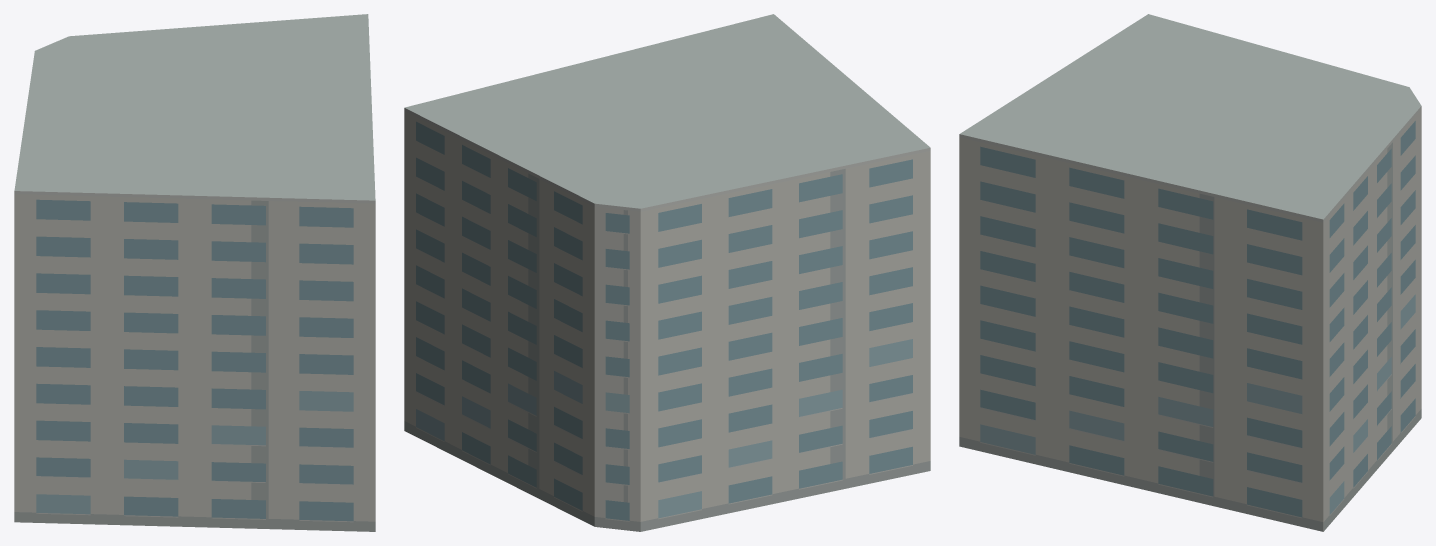
File: survey-upis-32854293.glb
3 renders of one model, left to right at view 1: azimuth 30°, elevation 25°; view 2: azimuth 150°, elevation 25°; view 3: azimuth 270°, elevation 25°, orthographic. The views are drawn at different scales.
Visible parts, largest first — view 1: survey-upis-32854293.tmp; view 2: survey-upis-32854293.tmp; view 3: survey-upis-32854293.tmp.
Part boxes in pixels (x1=…): survey-upis-32854293.tmp: x1=14, y1=14, x2=375, y2=531; survey-upis-32854293.tmp: x1=404, y1=14, x2=930, y2=531; survey-upis-32854293.tmp: x1=959, y1=14, x2=1421, y2=531.
Size of the model in its own units: 35.22 by 24.95 by 33.46.
